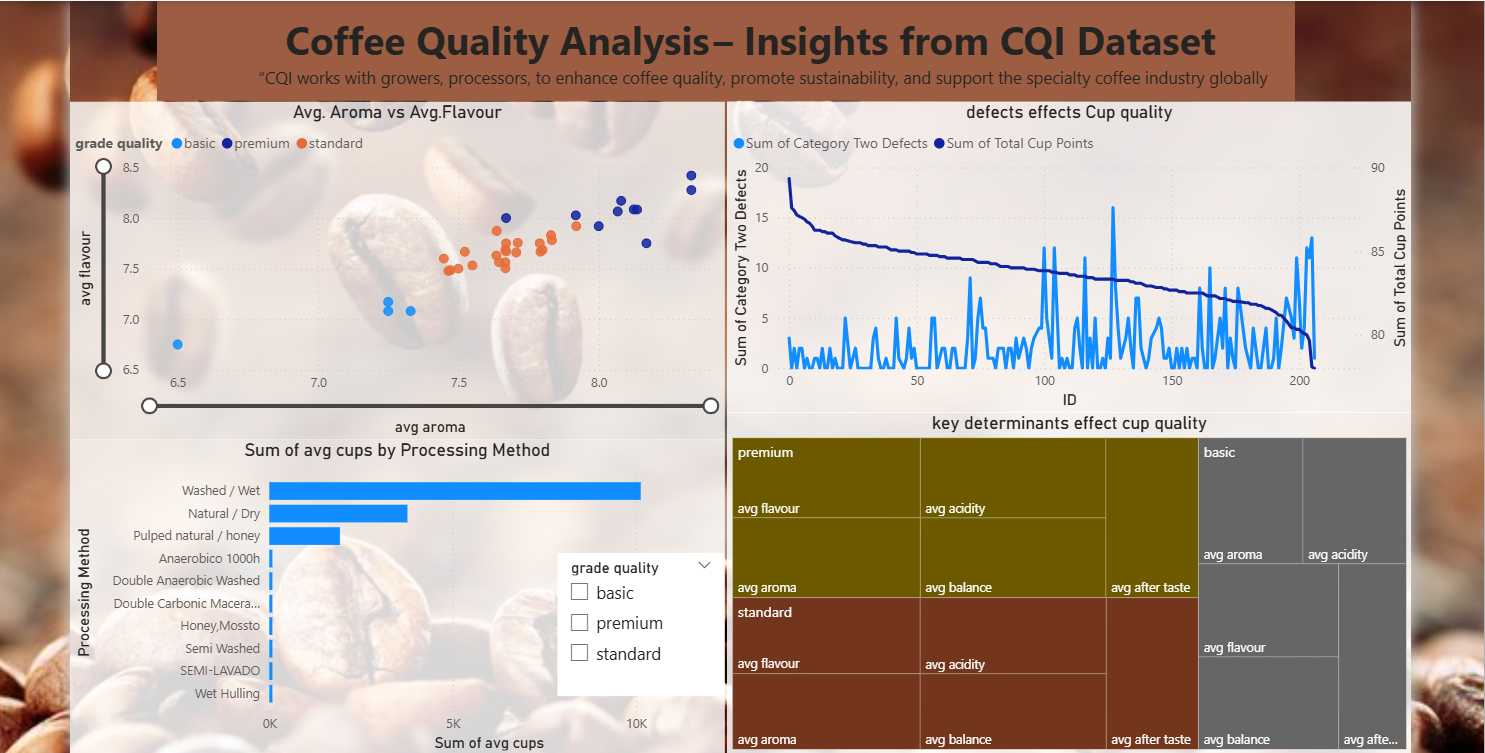

The page's visual inventory and layout, read from the dashboard file:
{"tool":"powerbi","page":{"name":"report","canvas":[1280,720],"ordinal":0},"visuals":[{"type":"scatterChart","title":"Avg. Aroma vs Avg.Flavour","fields":{"X":["df_arabica_clean.avg aroma"],"Y":["df_arabica_clean.avg flavour"],"Category":["df_arabica_clean.Country of Origin"],"Series":["df_arabica_clean.grade quality"]},"box":[0,95.4,625.1,322.9],"z":0},{"type":"clusteredBarChart","fields":{"Category":["df_arabica_clean.Processing Method"],"Y":["Sum(df_arabica_clean.avg cups)"]},"box":[0,418.3,625.1,302.2],"z":1000},{"type":"lineChart","title":"defects effects Cup quality","fields":{"Y":["Sum(df_arabica_clean.Category Two Defects)"],"Y2":["Sum(df_arabica_clean.Total Cup Points)"],"Category":["df_arabica_clean.ID"]},"box":[626.7,95.4,653.7,297.4],"z":2000},{"type":"treemap","title":"key determinants effect cup quality","fields":{"Group":["df_arabica_clean.grade quality"],"Values":["df_arabica_clean.avg aroma","df_arabica_clean.avg balance","df_arabica_clean.avg after taste","df_arabica_clean.avg acidity","df_arabica_clean.avg flavour"]},"box":[627.4,393.1,653.9,326.9],"z":3000},{"type":"textbox","box":[82.6,0,1086.5,95.5],"z":4000},{"type":"slicer","fields":{"Values":["df_arabica_clean.grade quality"]},"box":[466,526.5,159.1,136.8],"z":5000}]}

Visuals, with their boxes in screenshot pixels (x1, y1, x2, y2):
"Avg. Aroma vs Avg.Flavour" scatterChart: (left=81, top=99, right=727, bottom=432)
clusteredBarChart - df_arabica_clean.Processing Method x Sum(df_arabica_clean.avg cups): (left=81, top=432, right=727, bottom=744)
"defects effects Cup quality" lineChart: (left=729, top=99, right=1404, bottom=406)
"key determinants effect cup quality" treemap: (left=729, top=406, right=1405, bottom=744)
textbox: (left=167, top=0, right=1289, bottom=99)
slicer - df_arabica_clean.grade quality: (left=563, top=544, right=727, bottom=685)
